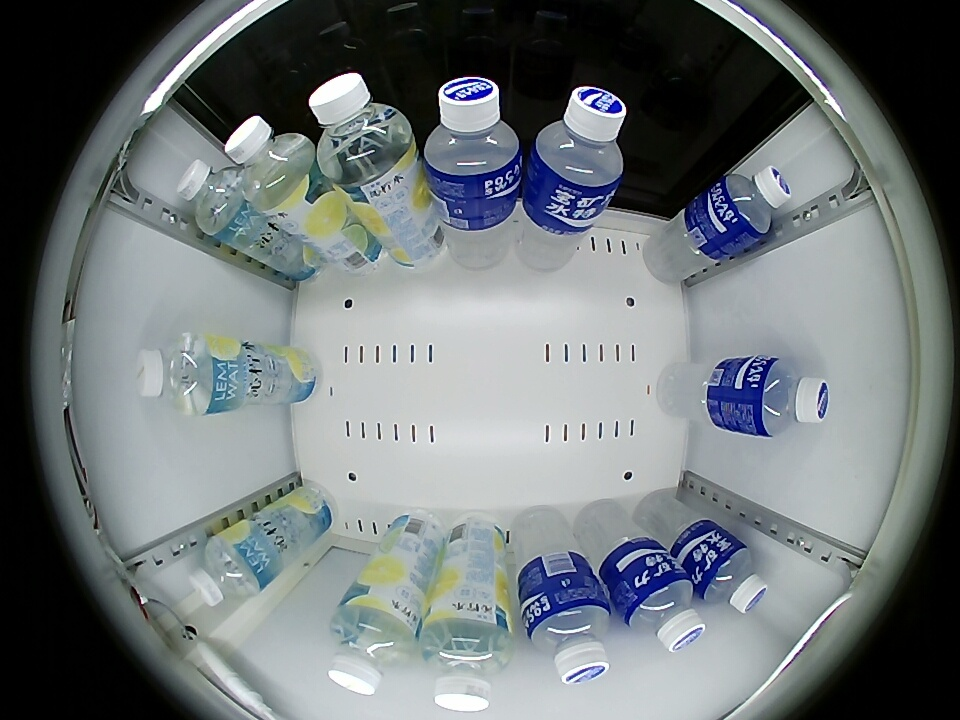baokuangli: (422, 76, 522, 195), (528, 86, 626, 204), (521, 584, 612, 686), (619, 566, 705, 653), (746, 355, 830, 437), (713, 165, 792, 244), (695, 537, 768, 614)
qinningshui: (308, 71, 414, 187), (417, 615, 515, 712), (329, 598, 416, 697), (224, 115, 315, 209), (134, 331, 221, 418), (189, 532, 268, 606), (177, 159, 246, 236)
